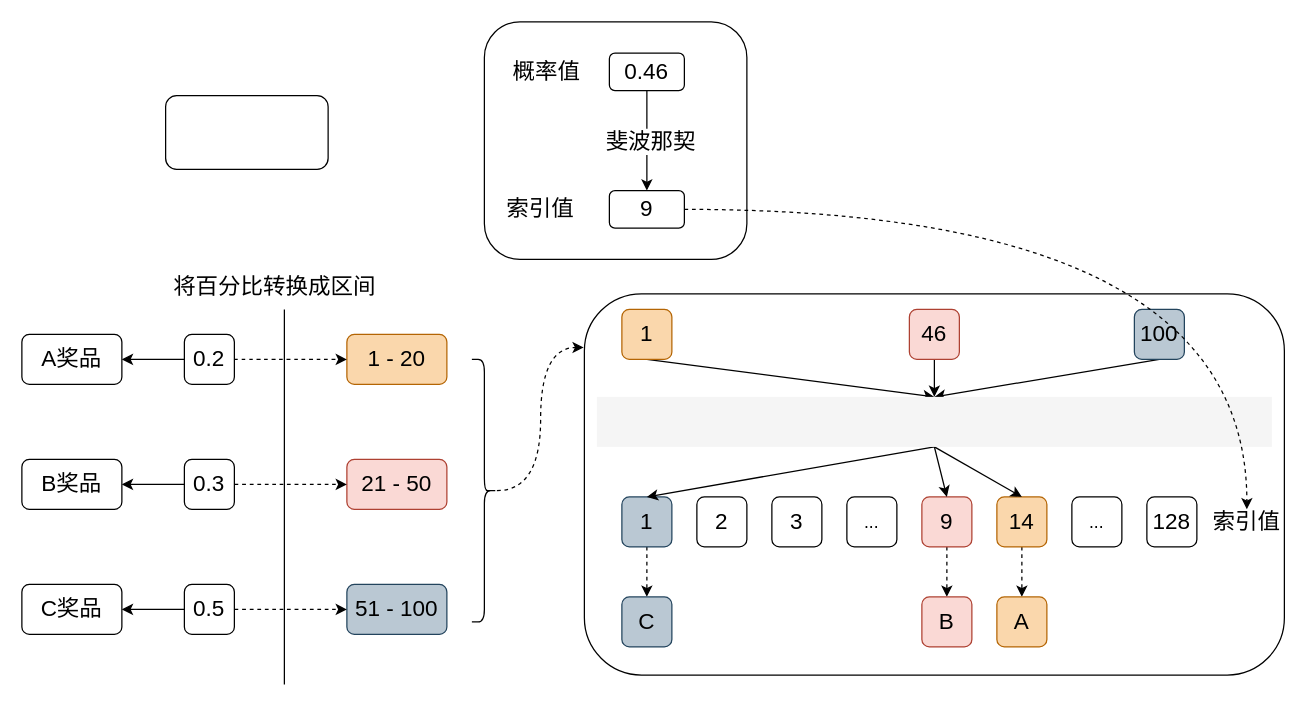
The diagram is 1306 pixels wide and 708 high, and some of its shapes have lost their labels. The shapes that lost their labels are listed below. From the top down, each one's box as (x1, y1, x2, y2) in pixels, then its label:
(164, 94, 328, 169): 单项概率 抽奖策略
(596, 396, 1271, 446): 斐波那契散列索引 （20 * HASH_INCREMENT + HASH_INCREMENT）& （128-1）
